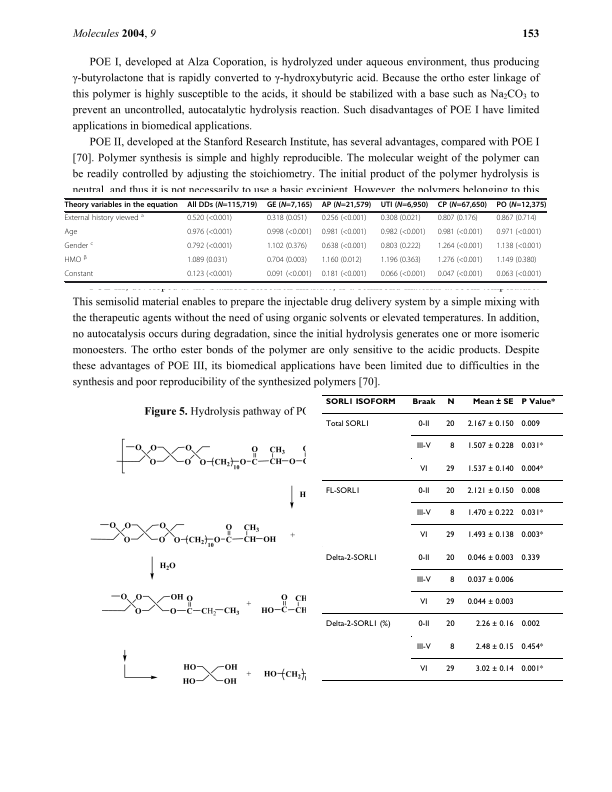borderless: (321, 393, 563, 680), (63, 197, 546, 281)
cell: (64, 201, 179, 210), (63, 212, 145, 224), (324, 620, 391, 630), (186, 201, 258, 210), (324, 553, 378, 563), (324, 398, 396, 405), (466, 442, 514, 452), (466, 464, 514, 474), (466, 486, 514, 496), (466, 508, 514, 518), (466, 531, 514, 541), (466, 553, 514, 563), (466, 575, 514, 585), (186, 214, 233, 224), (186, 228, 233, 238), (495, 228, 542, 238), (186, 242, 233, 252), (495, 242, 542, 252), (186, 270, 233, 280), (495, 270, 542, 280), (495, 201, 547, 210), (321, 214, 367, 224), (266, 228, 312, 238), (321, 228, 367, 238), (380, 228, 426, 238), (437, 228, 483, 238), (321, 242, 367, 252), (437, 242, 483, 252), (437, 256, 483, 266), (266, 270, 312, 280), (321, 270, 367, 280), (380, 270, 426, 280), (437, 270, 483, 280), (321, 201, 372, 210), (437, 201, 488, 210), (380, 201, 429, 210), (466, 420, 514, 429), (466, 598, 514, 607), (266, 201, 313, 210), (266, 214, 308, 224), (380, 214, 422, 224), (437, 214, 479, 224), (495, 214, 537, 224), (266, 242, 308, 252), (380, 242, 422, 252), (186, 256, 228, 266), (266, 256, 308, 266), (380, 256, 422, 266), (495, 256, 537, 266), (324, 420, 370, 429), (321, 256, 362, 266), (474, 620, 514, 630), (474, 642, 514, 652), (474, 664, 514, 674), (324, 486, 361, 496), (64, 240, 94, 252), (471, 398, 514, 405), (64, 270, 94, 280), (64, 254, 88, 266), (520, 398, 555, 405), (520, 442, 544, 452), (520, 464, 544, 474), (520, 508, 544, 518), (520, 531, 544, 541), (520, 642, 544, 652), (520, 664, 544, 674), (520, 486, 540, 496), (520, 553, 540, 563), (520, 620, 540, 630), (520, 420, 540, 429), (411, 398, 436, 405), (415, 442, 431, 452), (415, 508, 431, 518), (415, 575, 431, 585), (415, 642, 431, 652), (64, 228, 78, 238), (417, 486, 430, 496), (417, 553, 430, 563), (417, 620, 430, 630), (417, 420, 430, 429), (445, 464, 455, 474), (445, 486, 455, 496), (445, 531, 455, 541), (445, 553, 455, 563), (445, 620, 455, 630), (445, 664, 455, 674), (445, 420, 455, 429), (419, 464, 428, 474), (419, 531, 428, 541), (445, 598, 455, 607), (419, 664, 428, 674), (419, 598, 428, 607), (446, 398, 455, 405), (449, 442, 455, 452), (449, 508, 455, 518), (449, 575, 455, 585), (449, 642, 455, 652)
